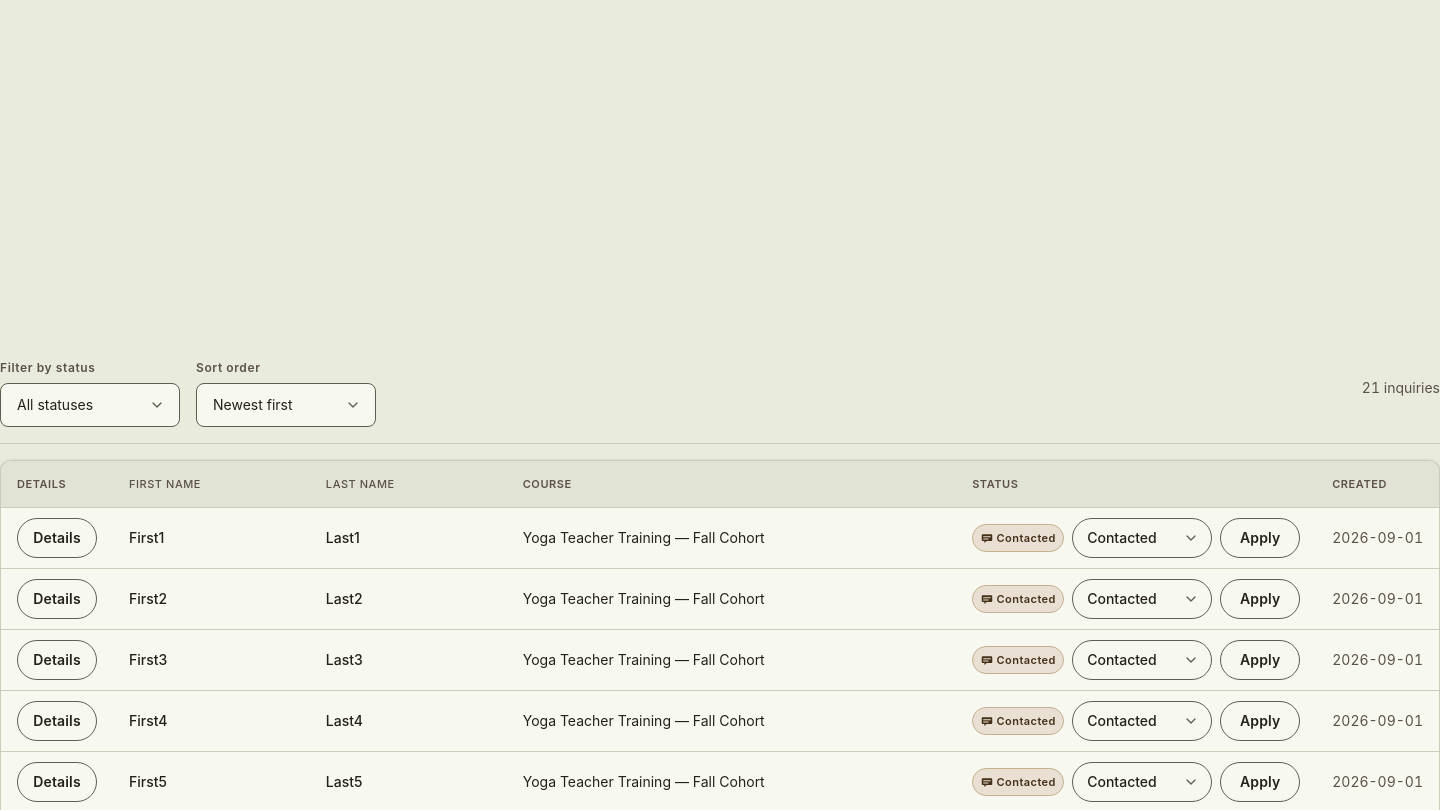
Test: IT-UI-017 update emptying the current page navigates to the last page › lands on page 1 with the reduced total instead of an empty dead end
The image size is (1440, 810).
(page scrolled)
Expected: the row "First1 " is shown, [1, 508, 1439, 568]
Select "Contacted" in the dropdown labelled "Filter by status". click: point(90, 405)
box: [0, 383, 180, 427]
(page scrolled)
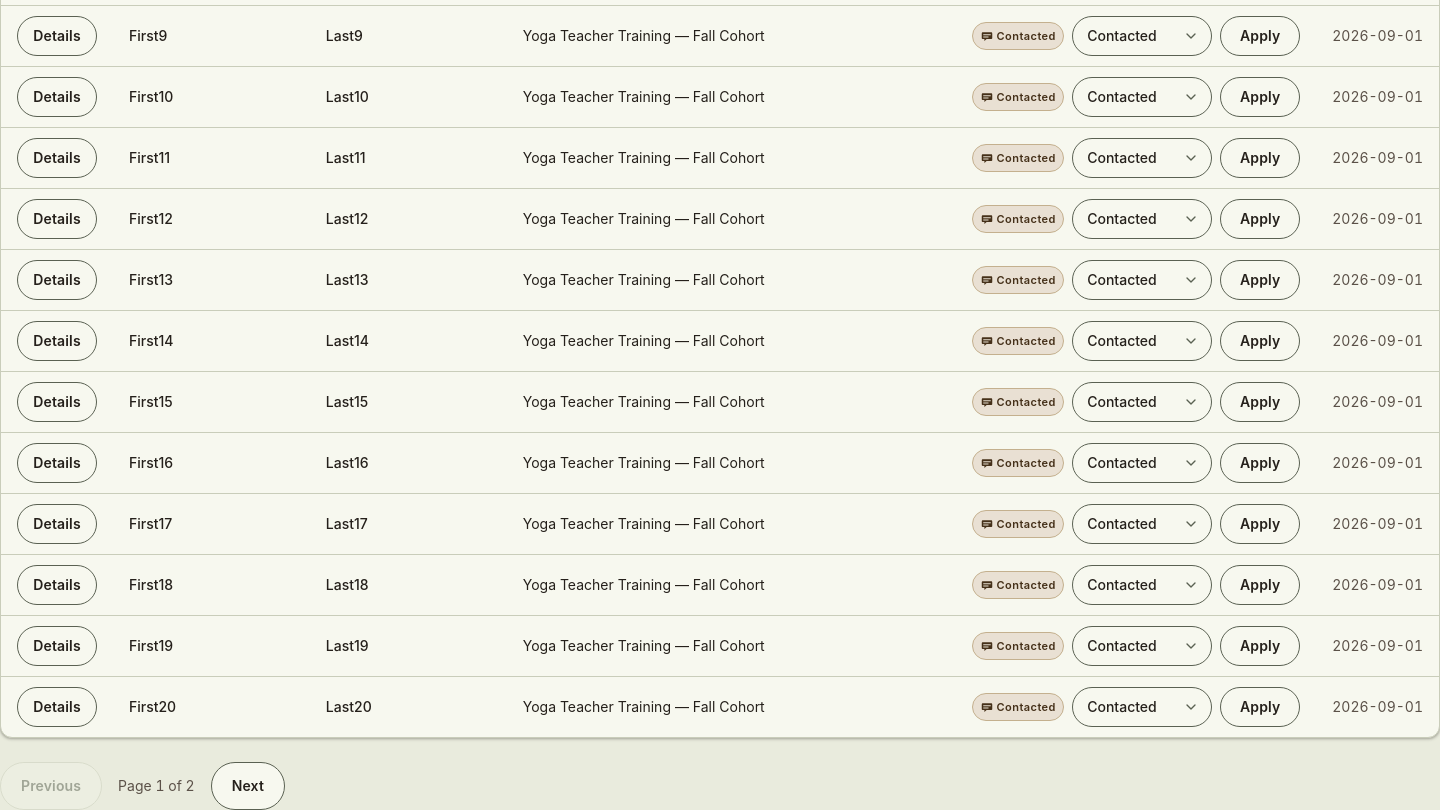
Click the button "Next". click: point(248, 786)
box: [211, 762, 285, 809]
(page scrolled)
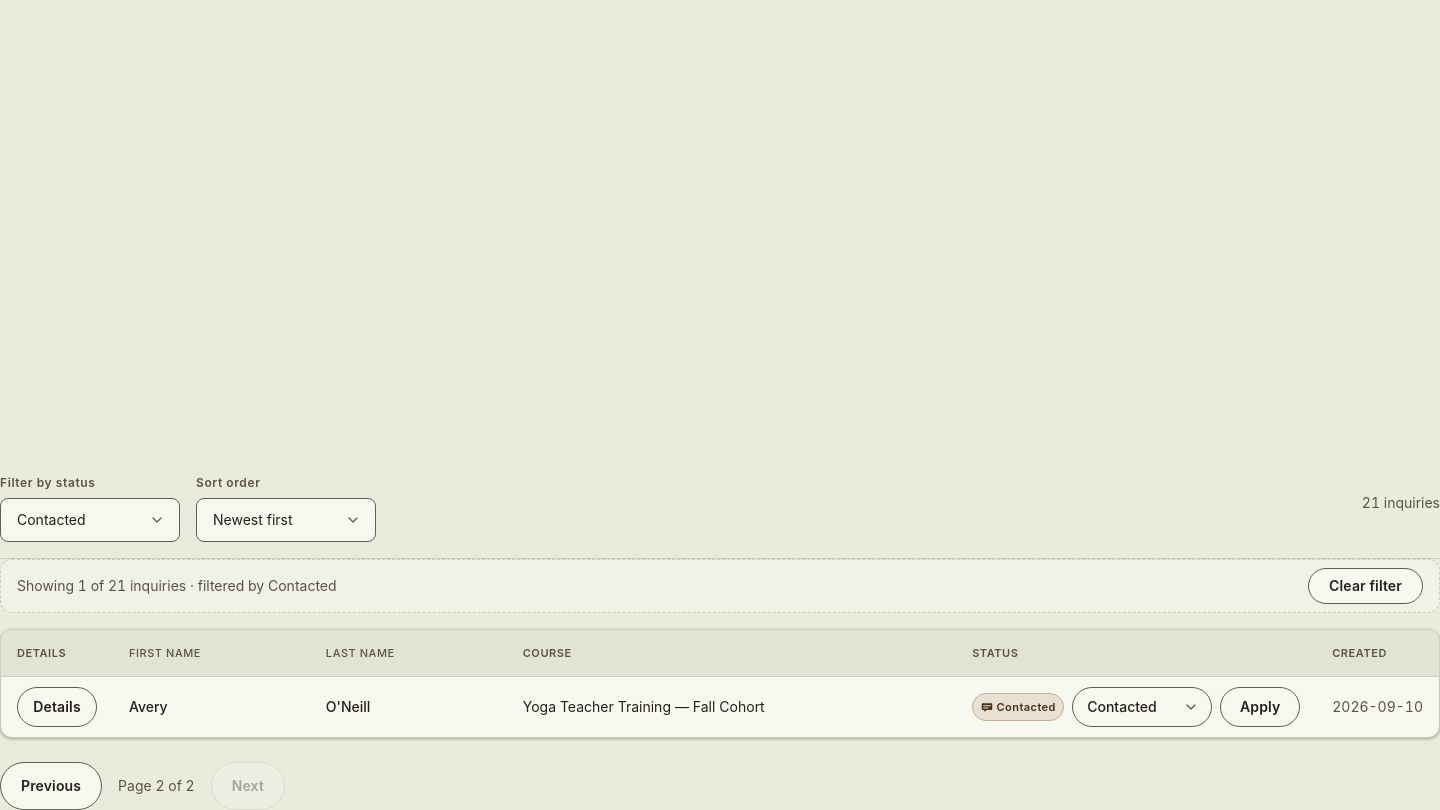
Expected: the row "Avery" is shown, [1, 677, 1439, 737]
Select "Closed" in the dropdown named "Status for Avery O'Neill". click: point(1142, 707)
box: [1072, 687, 1212, 727]
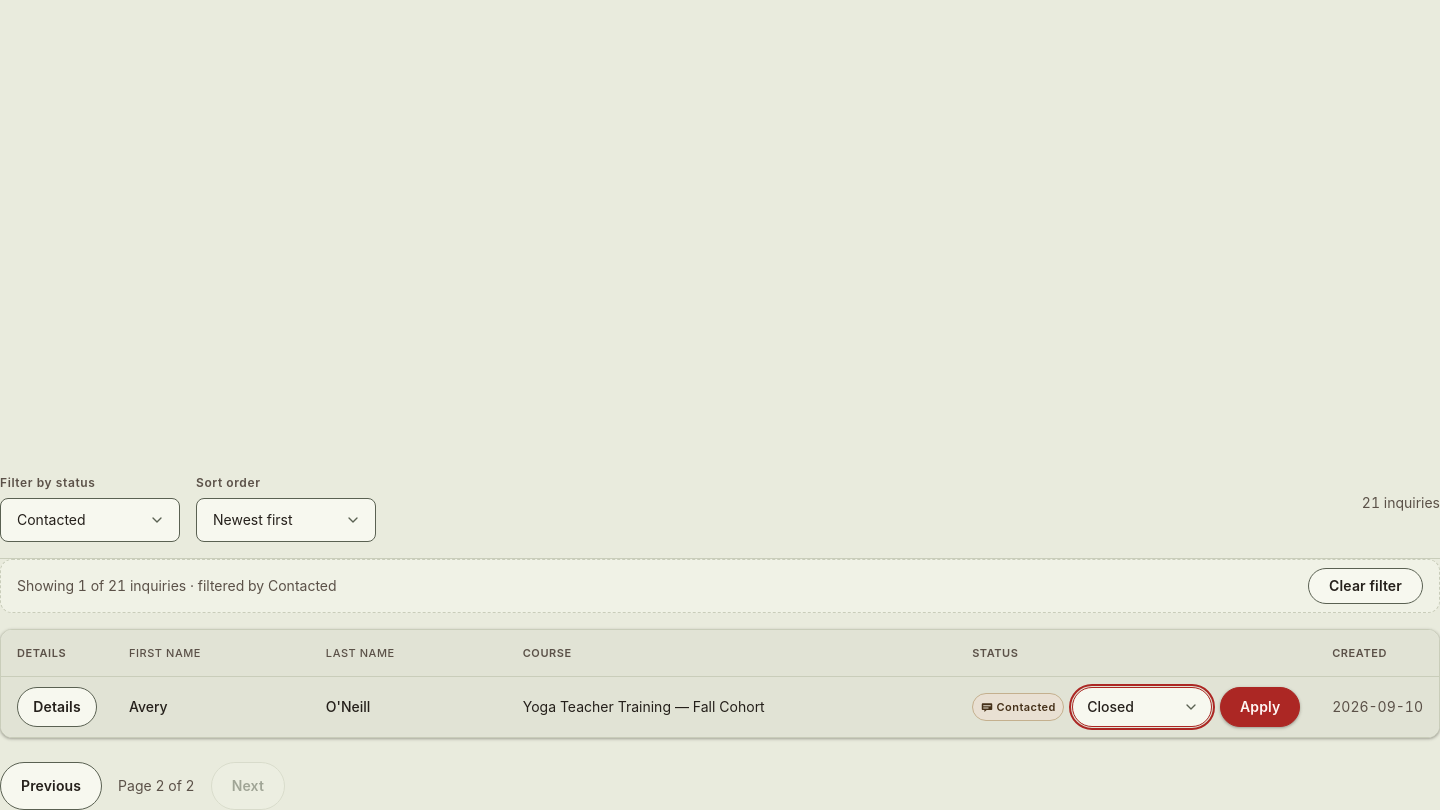
Click the button with aria-label "Apply for Avery O'Neill". click: point(1260, 707)
box: [1220, 687, 1300, 727]
(page scrolled)
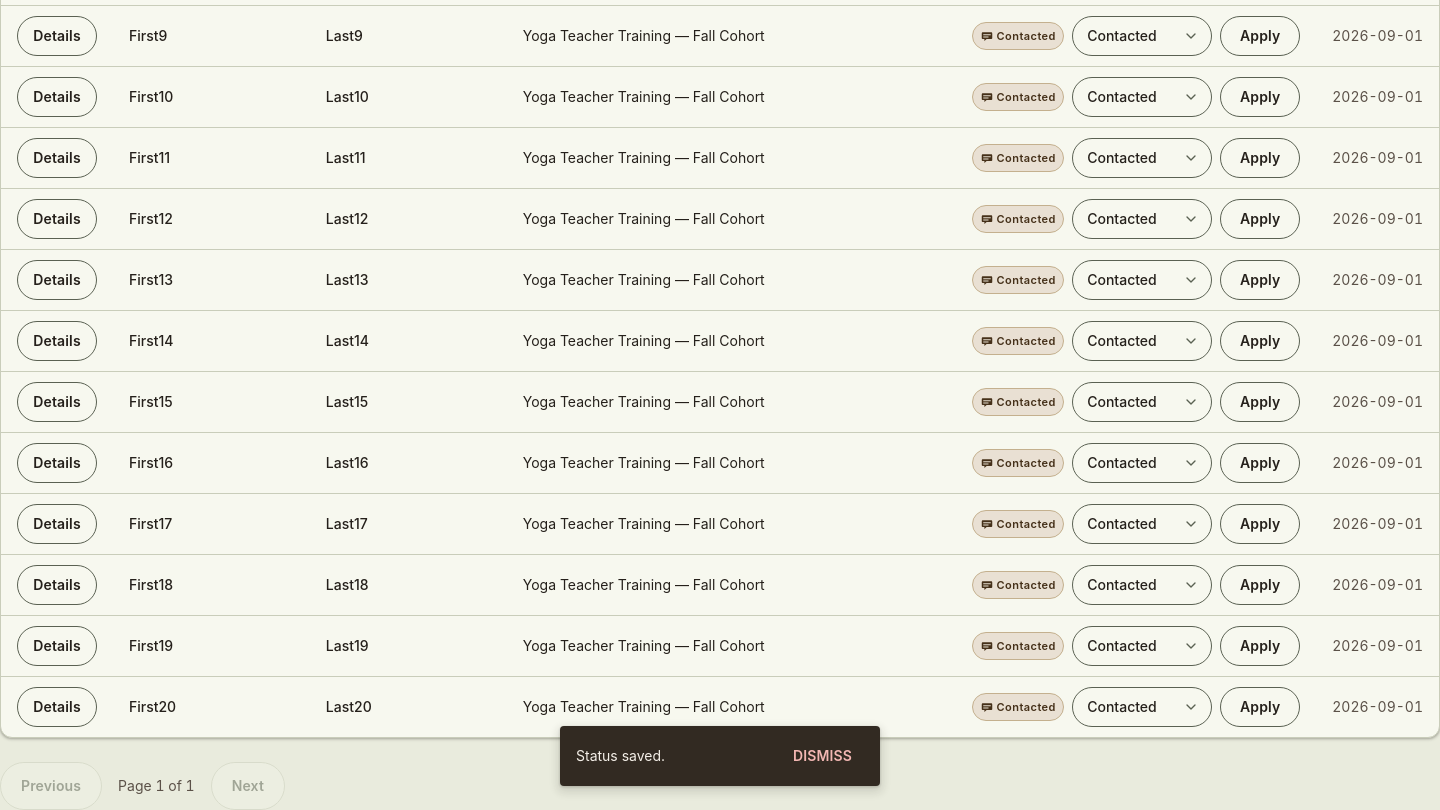
Expected: the text "Page 1 of 1" is shown, [118, 775, 195, 797]
